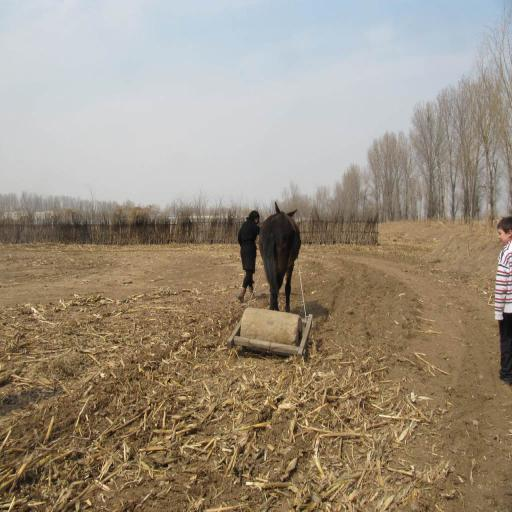Horse: (258, 201, 302, 309)
